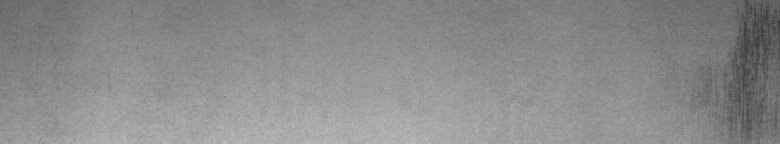ka: (725, 4, 776, 130)
